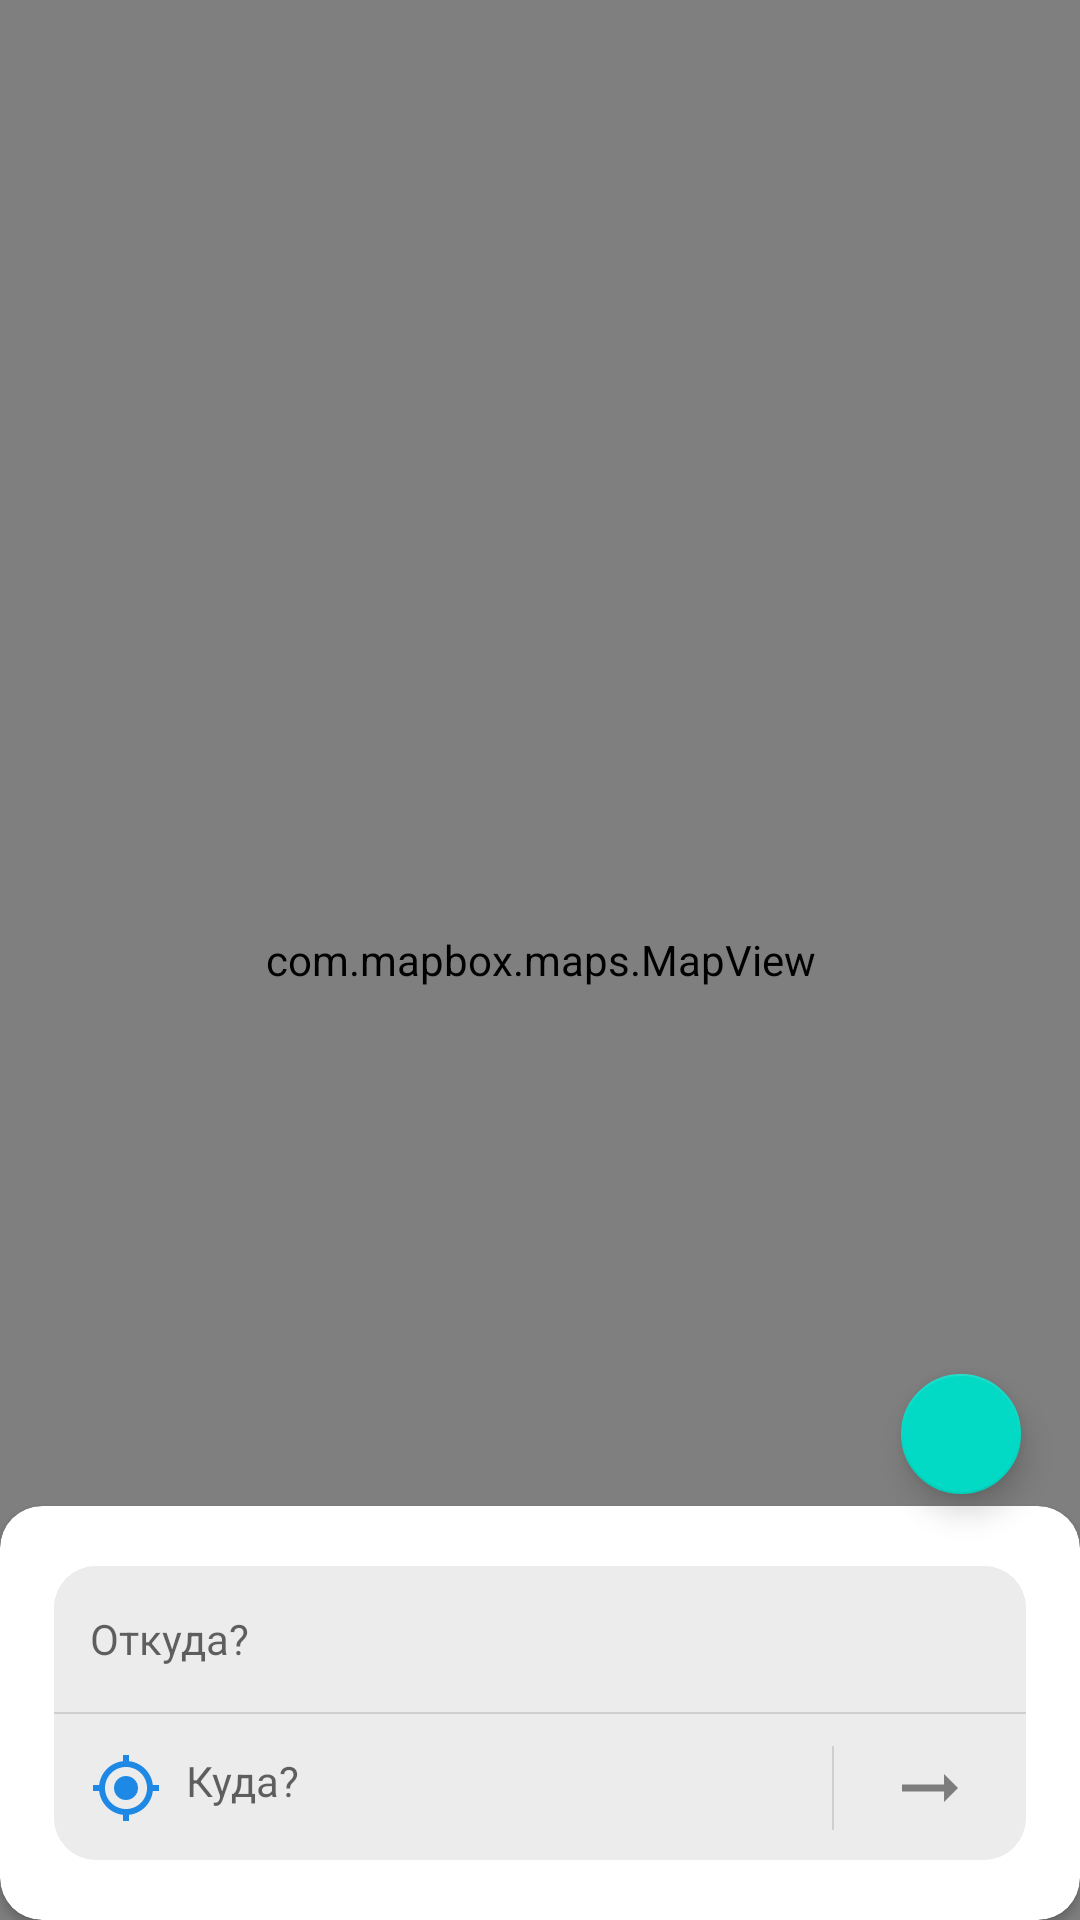

Locate icon controls on the screen. Image size 1080w x 1920h, boxes as (x1, y1, x2, y2).
arrow right: (902, 1774, 958, 1802)
